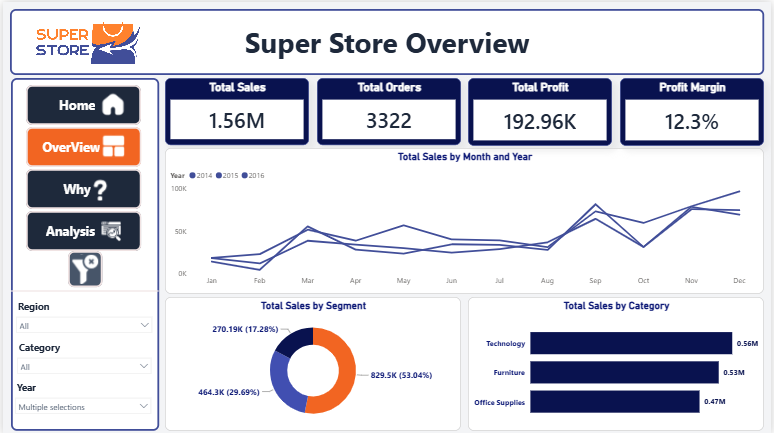

Layout of this report page (visuals, bound fields, positions):
{"tool":"powerbi","page":{"name":"OverView","canvas":[1280,720],"ordinal":1},"visuals":[{"type":"actionButton","box":[11.4,11.4,1257.1,110],"z":0},{"type":"actionButton","box":[13.3,126.7,246.7,588.3],"z":1000},{"type":"actionButton","box":[38.3,138.3,191.7,66.7],"z":2000},{"type":"actionButton","box":[37.9,278.4,192.4,66.7],"z":3000},{"type":"actionButton","box":[37.9,208.4,192.4,66.7],"z":4000},{"type":"slicer","fields":{"Values":["Orders.Region"]},"box":[11.4,491.4,247.1,68.6],"z":6000},{"type":"shape","box":[12.9,471.4,245.7,20],"z":7000},{"type":"actionButton","box":[158.3,136.7,50,68.3],"z":8000},{"type":"actionButton","box":[162.1,209.1,45.5,63.6],"z":9000},{"type":"actionButton","box":[139.4,281.8,44.3,64.3],"z":10000},{"type":"image","box":[44.3,14.3,190,107.1],"z":11000},{"type":"actionButton","box":[107.6,415.2,57.6,60.6],"z":12000},{"type":"slicer","fields":{"Values":["Orders.Category"]},"box":[12.9,559.3,244.3,68.6],"z":13000},{"type":"slicer","fields":{"Values":["Calendar.Year"]},"box":[10,627.1,247.1,68.6],"z":14000},{"type":"cardVisual","title":"Total Sales","fields":{"Data":["Measures_.Total Sales"]},"box":[270,126.7,240,111.7],"z":15000},{"type":"cardVisual","title":"Total Orders","fields":{"Data":["Measures_.Total Orders"]},"box":[523.3,126.7,240,111.7],"z":16000},{"type":"lineChart","fields":{"Category":["Calendar.Month"],"Series":["Calendar.Year"],"Y":["Measures_.Total Sales"]},"box":[270,243.3,998.3,243.3],"z":17000},{"type":"clusteredBarChart","fields":{"Category":["Orders.Category"],"Y":["Measures_.Total Sales"]},"box":[775,491.7,493.3,223.3],"z":18000},{"type":"donutChart","fields":{"Category":["Orders.Segment"],"Y":["Measures_.Total Sales"]},"box":[270,491.7,493.3,223.3],"z":19000},{"type":"cardVisual","title":"Total Profit","fields":{"Data":["Measures_.Total Profit"]},"box":[775,126.7,240,113.3],"z":20000},{"type":"cardVisual","title":"Profit Margin","fields":{"Data":["Measures_.Profit Margin"]},"box":[1028.3,126.7,240,113.3],"z":21000},{"type":"actionButton","box":[37.9,348.5,192.4,66.7],"z":22000},{"type":"actionButton","box":[159.1,357.6,43.9,47],"z":23000}]}

Visuals, with their boxes in screenshot pixels (x1, y1, x2, y2), scaled from the page's 1280x720 canvas onto the 774x433 screenshot:
actionButton: l=7, t=7, r=767, b=73
actionButton: l=8, t=76, r=157, b=430
actionButton: l=23, t=83, r=139, b=123
actionButton: l=23, t=167, r=139, b=208
actionButton: l=23, t=125, r=139, b=165
slicer - Orders.Region: l=7, t=296, r=156, b=337
shape: l=8, t=283, r=156, b=296
actionButton: l=96, t=82, r=126, b=123
actionButton: l=98, t=126, r=126, b=164
actionButton: l=84, t=169, r=111, b=208
image: l=27, t=9, r=142, b=73
actionButton: l=65, t=250, r=100, b=286
slicer - Orders.Category: l=8, t=336, r=156, b=378
slicer - Calendar.Year: l=6, t=377, r=155, b=418
"Total Sales" cardVisual: l=163, t=76, r=308, b=143
"Total Orders" cardVisual: l=316, t=76, r=462, b=143
lineChart - Calendar.Month x Calendar.Year: l=163, t=146, r=767, b=293
clusteredBarChart - Orders.Category x Measures_.Total Sales: l=469, t=296, r=767, b=430
donutChart - Orders.Segment x Measures_.Total Sales: l=163, t=296, r=462, b=430
"Total Profit" cardVisual: l=469, t=76, r=614, b=144
"Profit Margin" cardVisual: l=622, t=76, r=767, b=144
actionButton: l=23, t=210, r=139, b=250
actionButton: l=96, t=215, r=123, b=243
